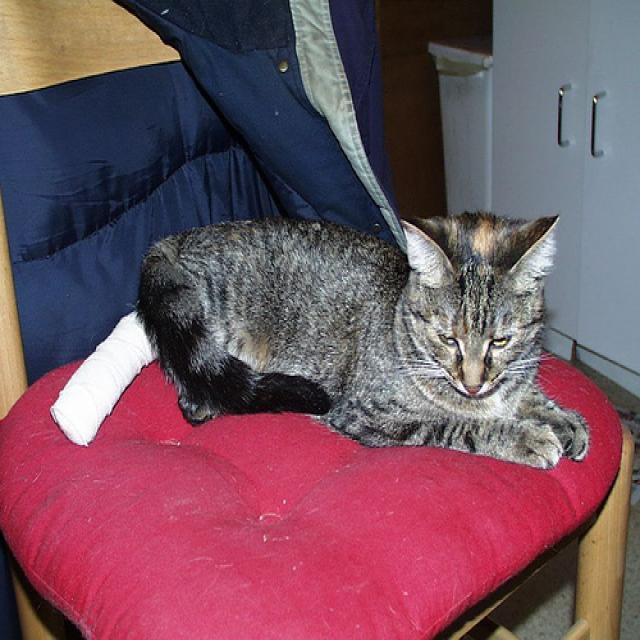cat: (139, 209, 590, 471)
chair: (1, 1, 636, 639)
